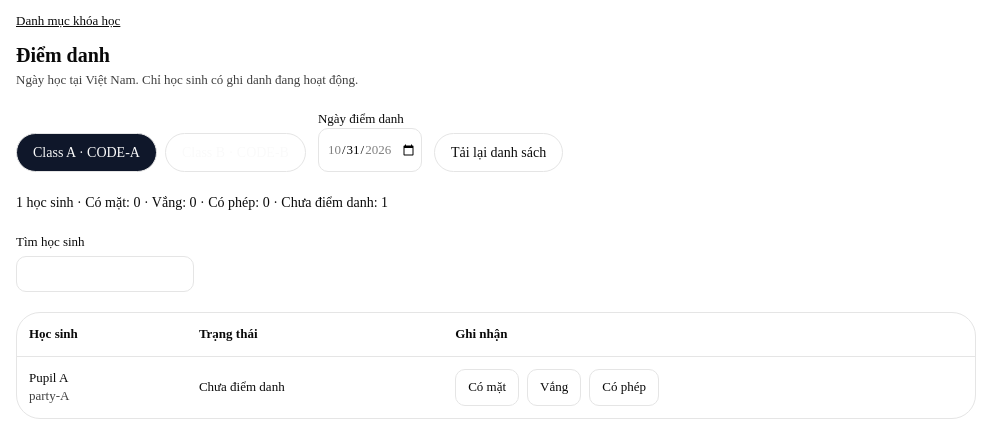
Test: requires readback after uncertain command malformed without fake success
Click the button with aria-label "Có mặt — Pupil A".
click(487, 387)  # box [455,369,519,406]
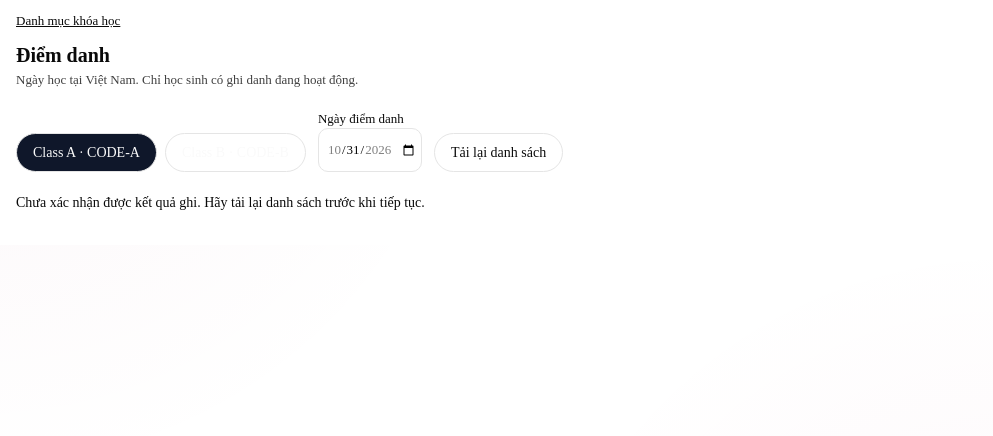
Result: the message shows "Chưa xác nhận" at [16,195,425,210]
Result: the table is gone
